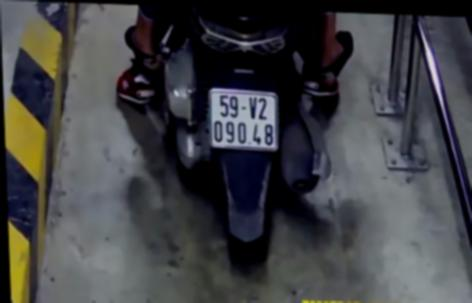License_Plate: (204, 86, 286, 160)
